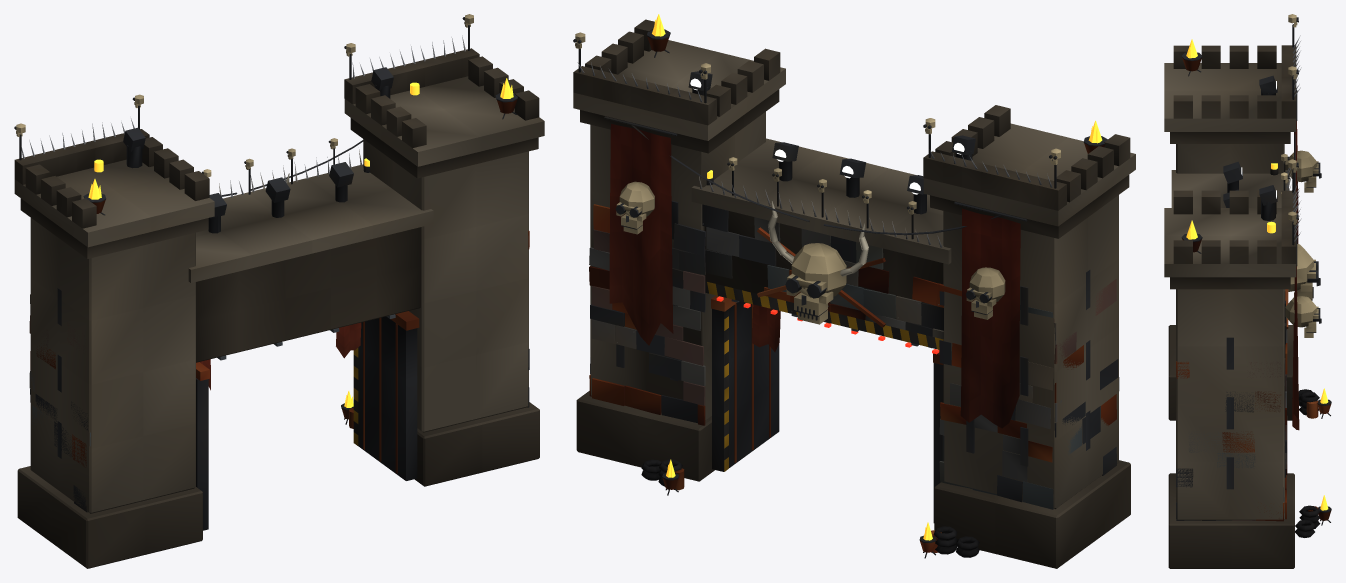
Rendered from dam_gate_big.glb.
3 renders of one model, left to right at view 1: azimuth 30°, elevation 25°; view 2: azimuth 150°, elevation 25°; view 3: azimuth 270°, elevation 25°, orthographic. The views are drawn at different scales.
Visible parts, largest first — view 1: concrete, concrete_dark, metal_dark, rust, spike, light_amber, canvas, bone; view 2: concrete, concrete_dark, metal_dark, canvas, metal_bare, rust, bone, hazard, rubber, spike; view 3: concrete, concrete_dark, metal_dark, bone, rust, canvas, metal_bare, rubber, light_amber, spike.
Boxes of the visible parts, box(x1,y1,x2,y2) form: concrete: box(14, 76, 544, 513); concrete_dark: box(14, 48, 539, 568); metal_dark: box(14, 17, 529, 530); rust: box(30, 99, 529, 473); spike: box(21, 35, 465, 197); light_amber: box(88, 78, 513, 407); canvas: box(200, 322, 361, 390); bone: box(16, 14, 473, 182); concrete: box(573, 40, 1135, 509); concrete_dark: box(573, 19, 1130, 568); metal_dark: box(573, 29, 1118, 558); canvas: box(609, 124, 1020, 428); metal_bare: box(589, 210, 1119, 509); rust: box(589, 36, 1116, 552); bone: box(575, 32, 1060, 324); hazard: box(705, 281, 943, 471); rubber: box(641, 459, 979, 557); spike: box(577, 62, 1052, 247); concrete: box(1164, 63, 1296, 520); concrete_dark: box(1168, 45, 1296, 568); metal_dark: box(1176, 17, 1331, 525); bone: box(1281, 14, 1318, 337); rust: box(1176, 57, 1331, 521); canvas: box(1292, 121, 1299, 430); metal_bare: box(1188, 291, 1287, 520); rubber: box(1295, 389, 1320, 537); light_amber: box(1186, 39, 1328, 510); spike: box(1286, 35, 1301, 242).
Size of what is drawn, in the model's own units: 32.45 by 26.84 by 11.41.
